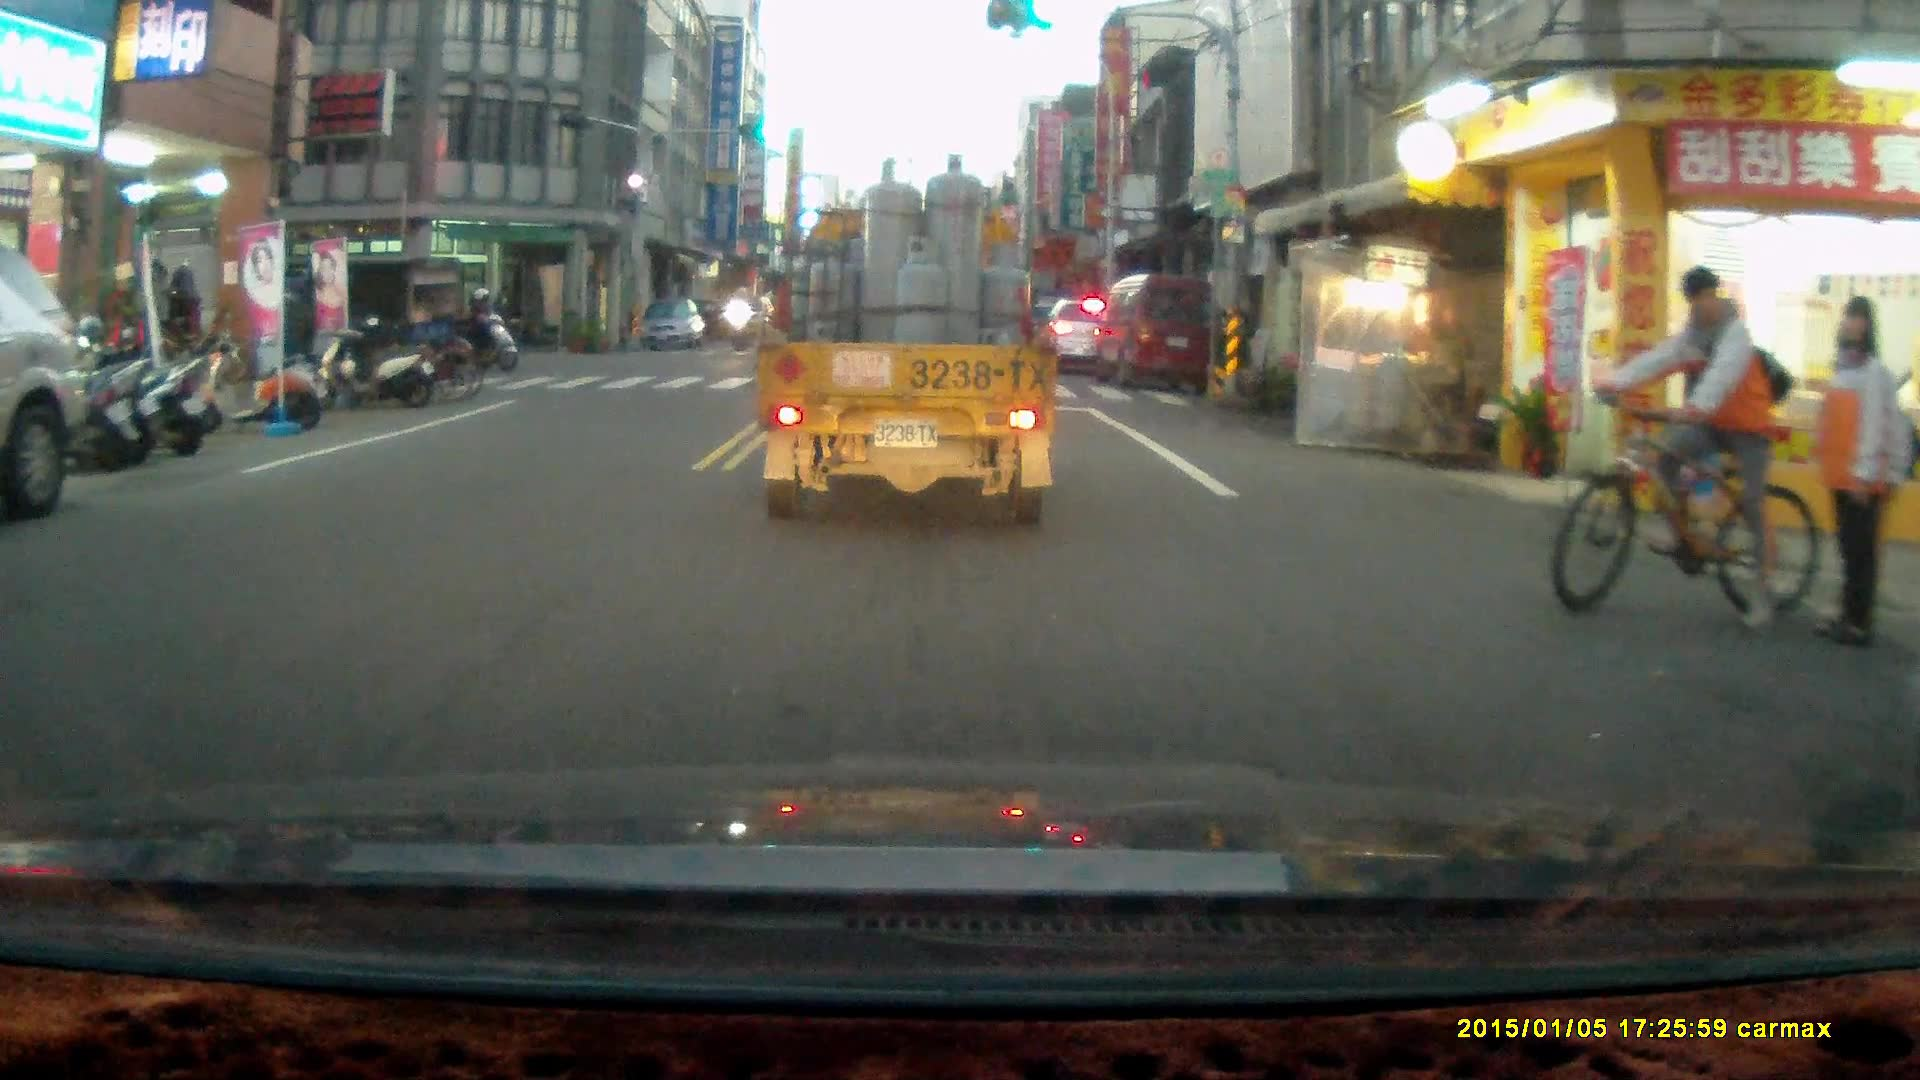pedestrian: (1810, 294, 1894, 652), (164, 264, 200, 375)
rider: (1554, 266, 1821, 637), (448, 283, 516, 373), (726, 282, 764, 351)
vehicle: (753, 161, 1046, 523), (259, 247, 471, 374), (1, 252, 90, 522), (1092, 274, 1219, 394), (1043, 296, 1118, 377), (639, 299, 707, 351)
